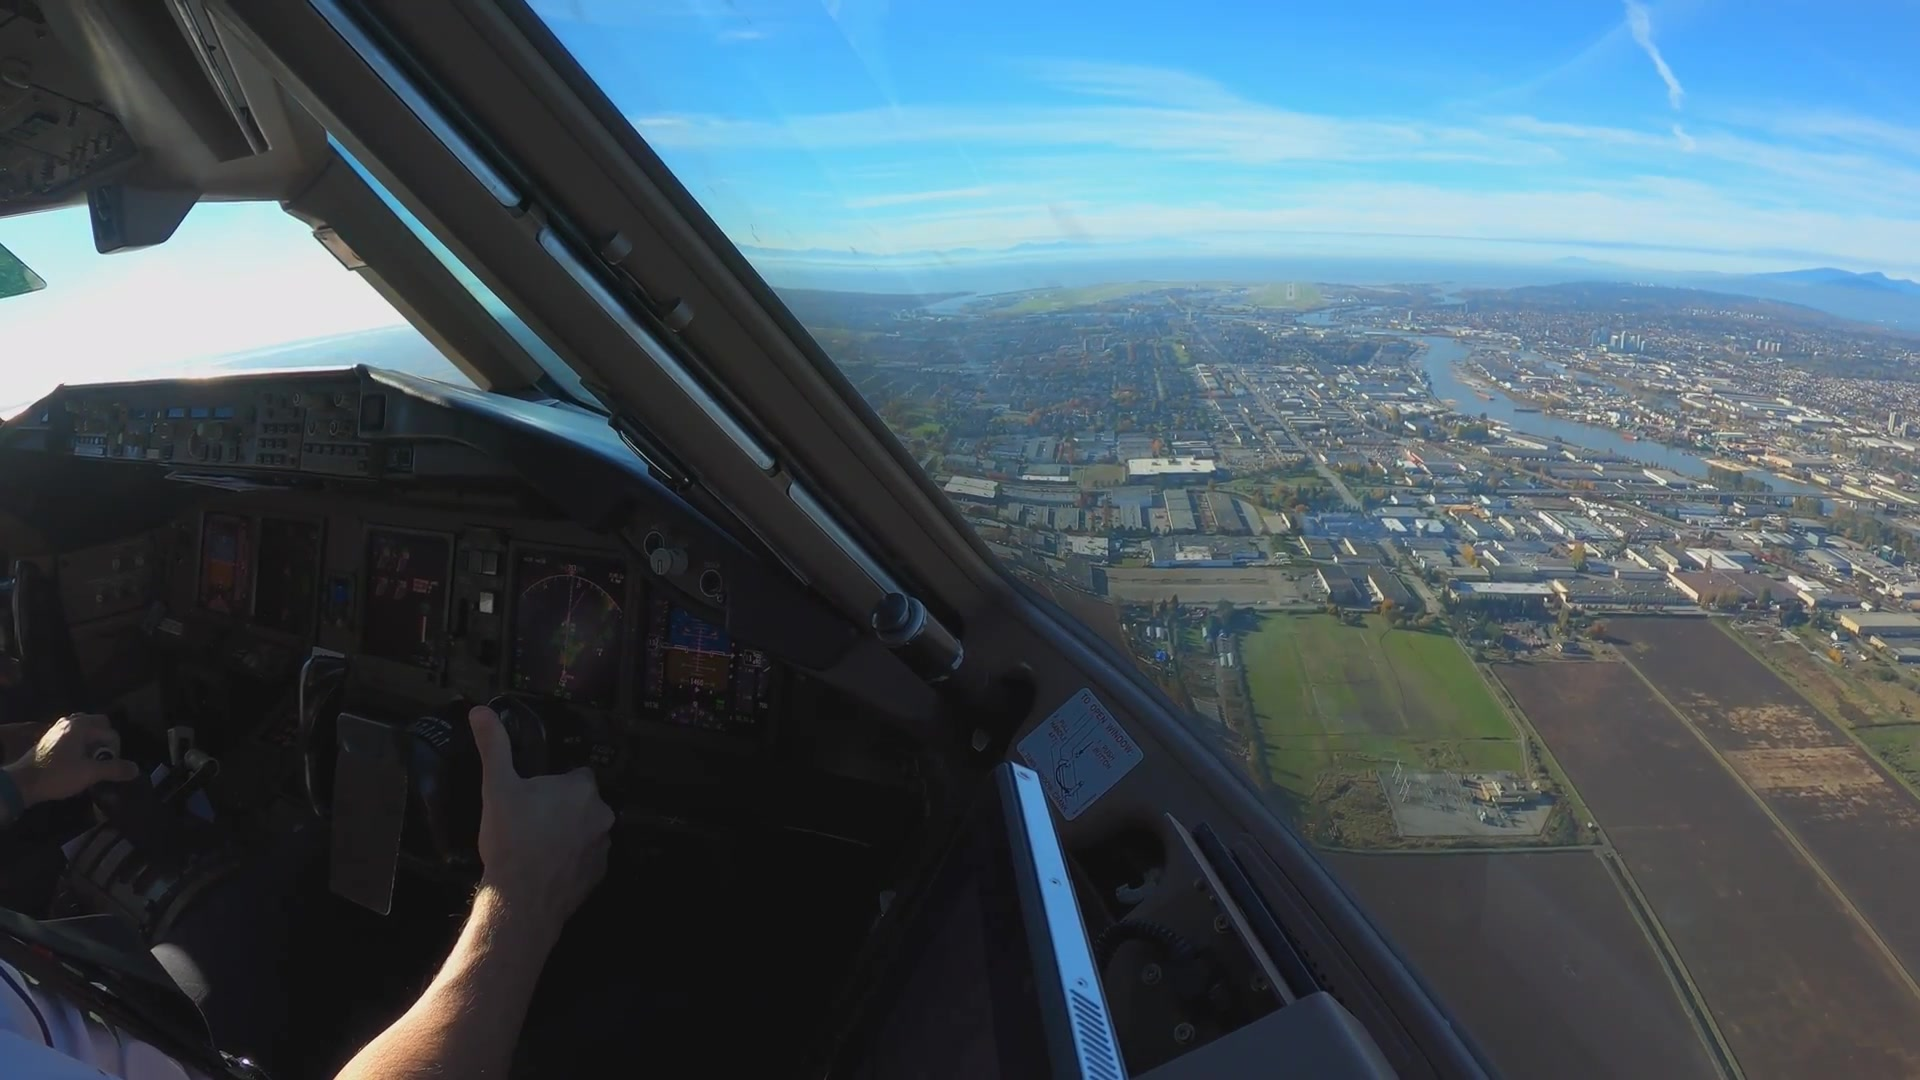runway: (1284, 280, 1296, 302)
